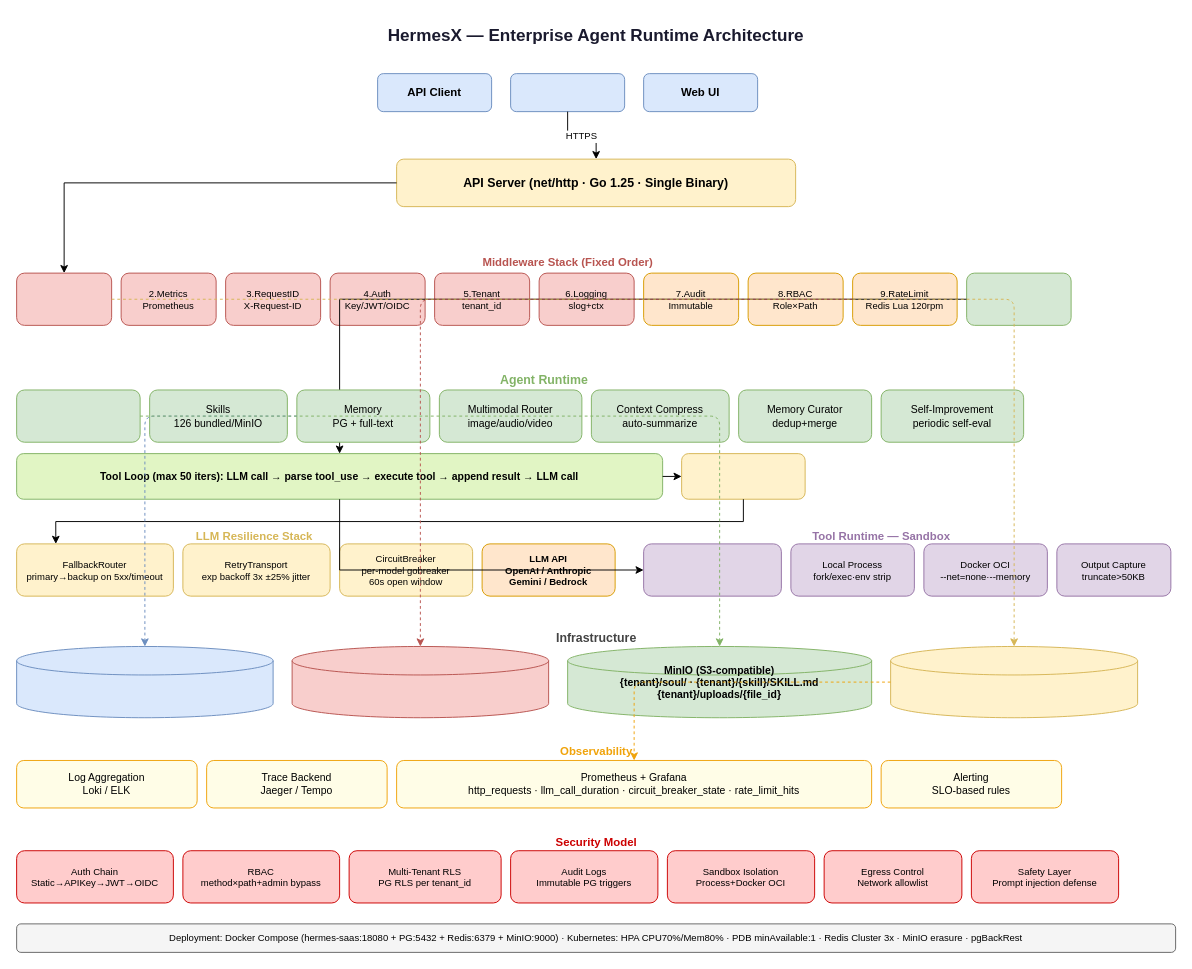
Image size: 1192x969. Some labels were removed from this diagram. The box of each missing label's shape, as (x1, y1, x2, y2) in pixels:
1.Tracing OTel Span: (16, 272, 112, 325)
10.Handler Business Logic: (966, 272, 1071, 325)
LLM Client: (681, 453, 805, 499)
OTel Collector /metrics · OTLP endpoint W3C trace context: (890, 646, 1138, 718)
Policy Check AllowedTools+maxIter: (643, 543, 781, 596)
PostgreSQL RLS · JSONB · 70+ migrations Audit triggers · pgBackRest RPO<5min: (16, 646, 273, 718)
Redis Rate Limit (Lua) · Session Lock Context Cache · Heartbeat TTL: (291, 646, 549, 718)
SDK: (510, 73, 625, 112)
Soul SOUL.md/MinIO: (16, 389, 140, 442)
